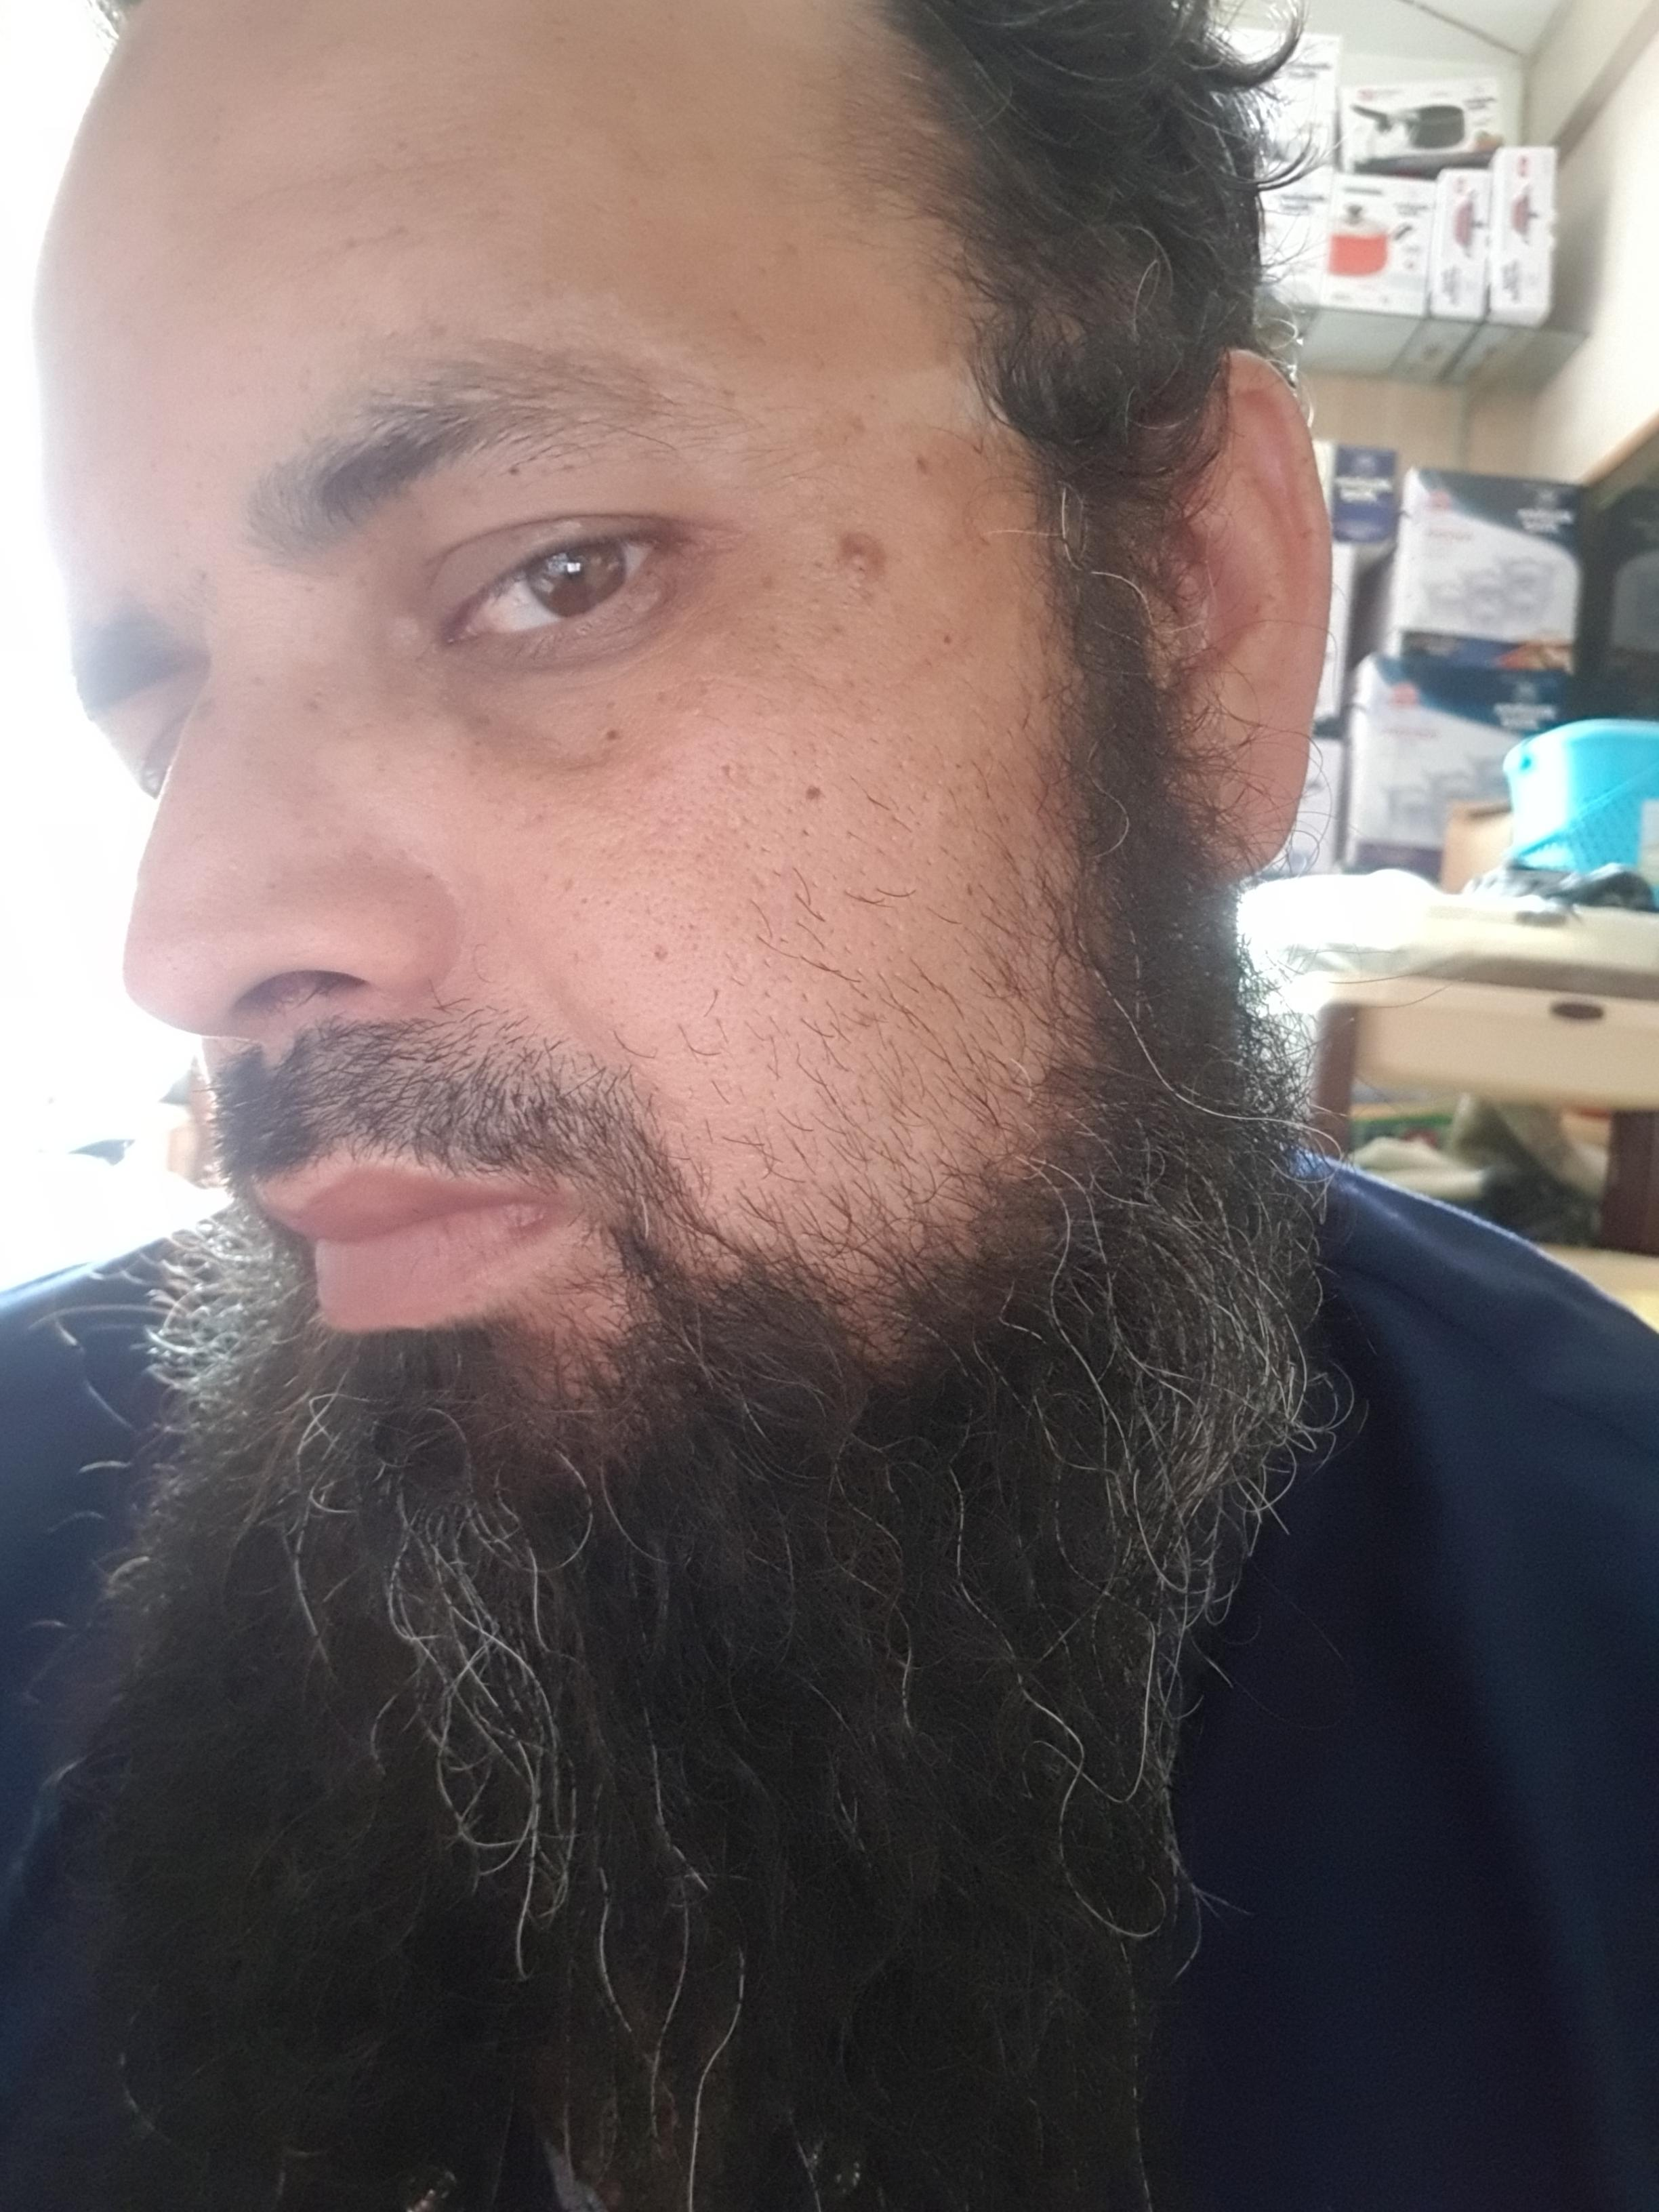Acne: (828, 521, 903, 596)
Englarged-Pores: (605, 780, 857, 998)
Wrinkles: (204, 148, 502, 211), (247, 218, 429, 301), (552, 667, 781, 698)
